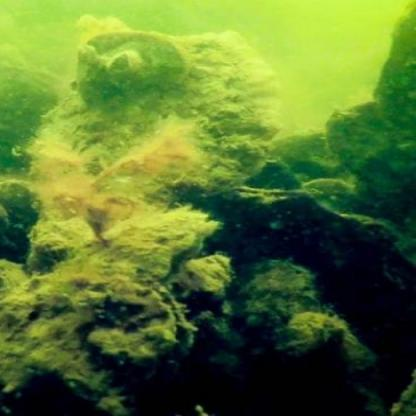Oyster- Indeterminate: (56, 262, 194, 368), (198, 187, 339, 230), (110, 217, 204, 278)
Oyster-Closed: (94, 34, 186, 86), (74, 45, 106, 108)
